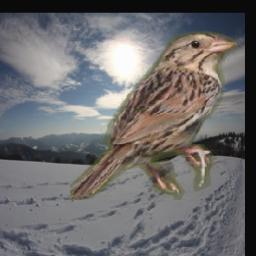Sparrow: (69, 29, 237, 200)
